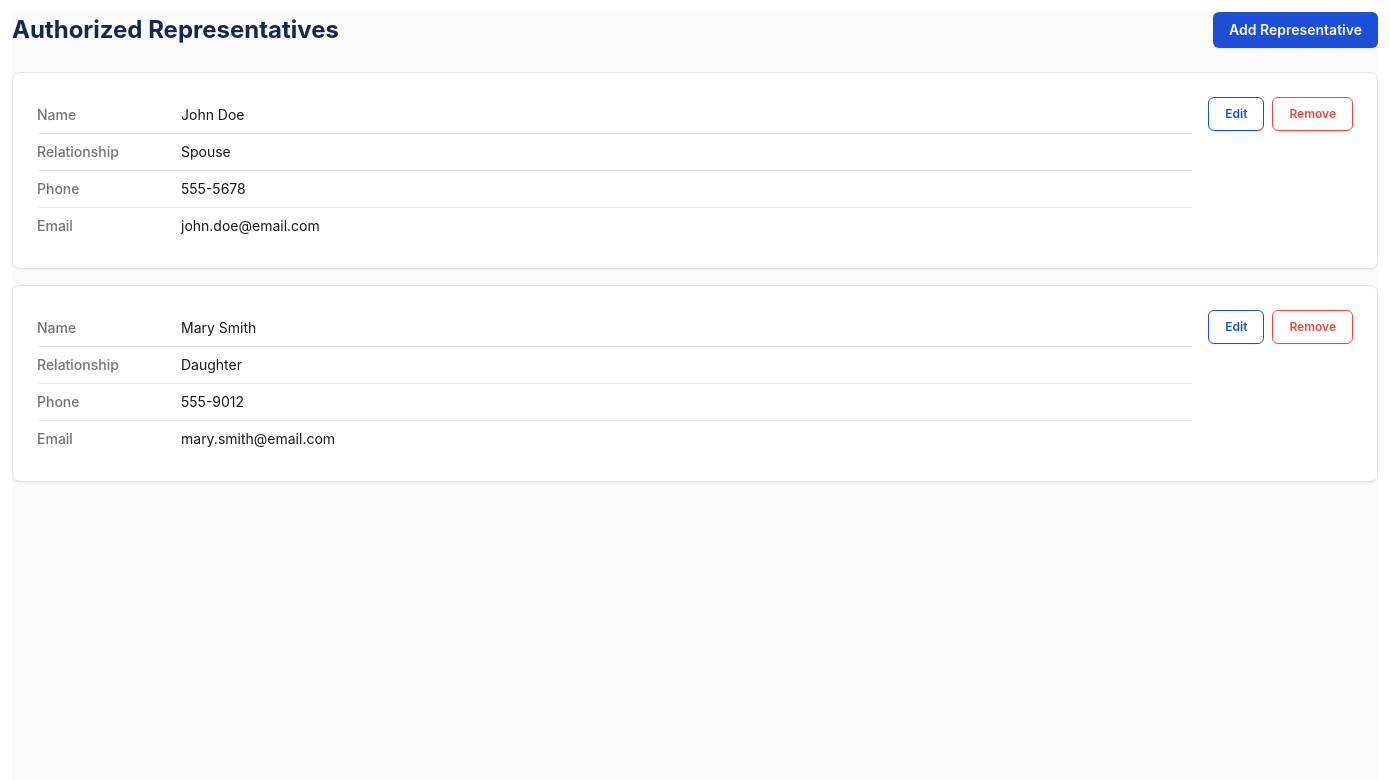
Test: RepresentativesPage › hides Add Representative button when add form is visible
The image size is (1390, 780).
Click the button "Add Representative". click: (1296, 30)
box: x1=1213 y1=12 x2=1378 y2=48
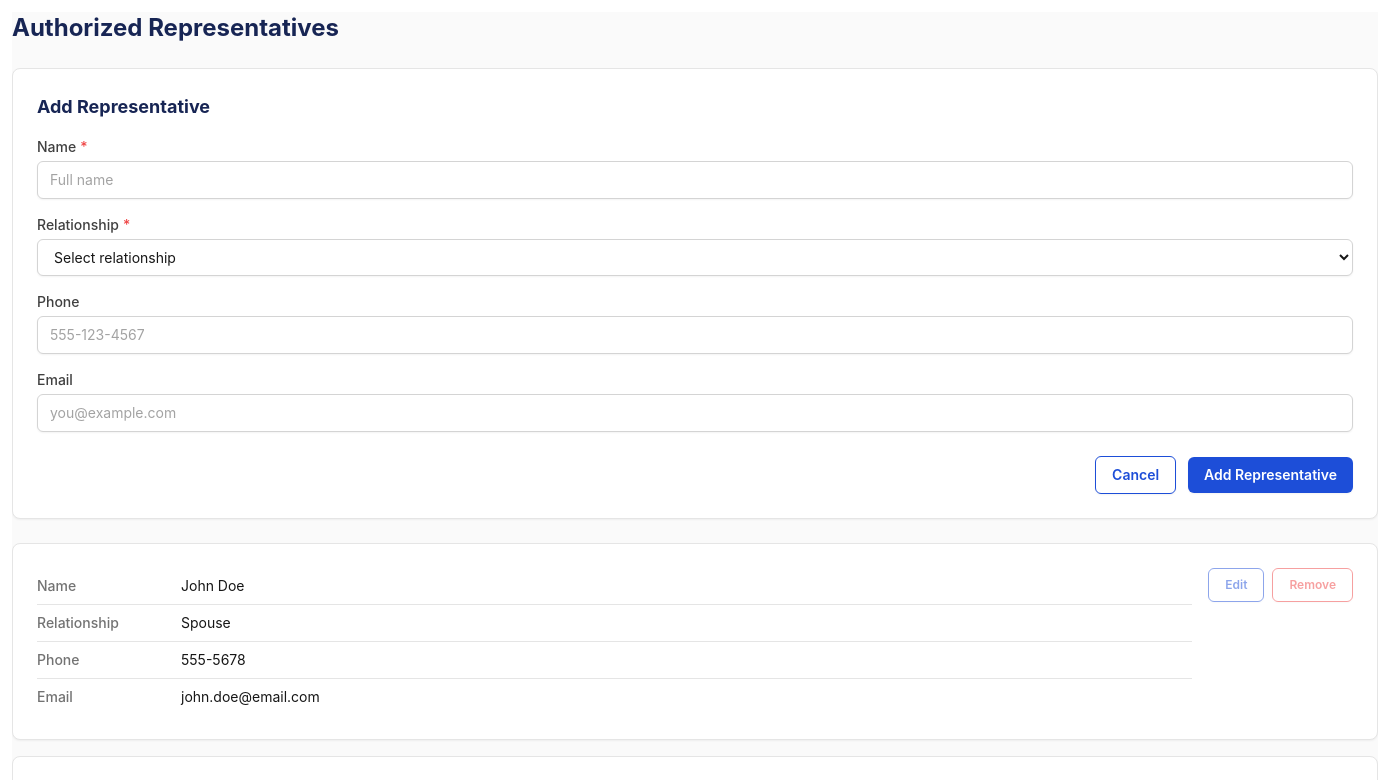
Check: the button "Cancel" is shown, box x1=1095 y1=456 x2=1176 y2=494
